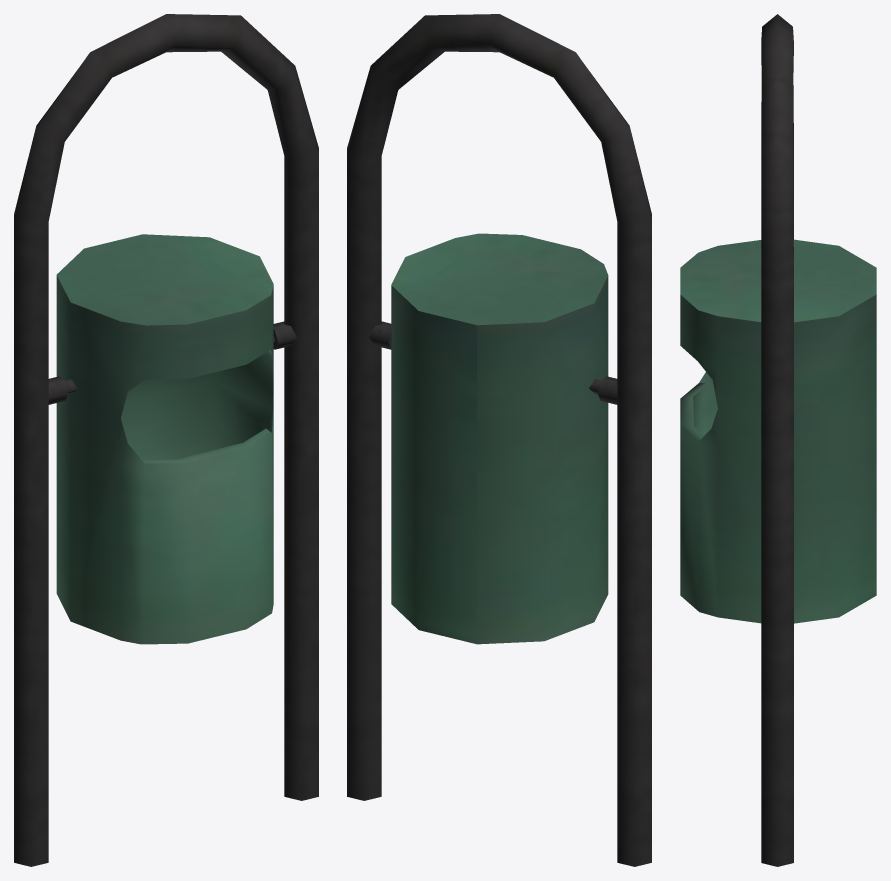
File: trash_can_03.FBX
The picture shows the model from 3 angles, left to right: view 1: azimuth 30°, elevation 25°; view 2: azimuth 150°, elevation 25°; view 3: azimuth 270°, elevation 25°; orthographic projection. The views are drawn at different scales.
Parts seen in each view (by area): view 1: trash_can_03; view 2: trash_can_03; view 3: trash_can_03.
Part boxes in pixels (<box>): trash_can_03: <box>14,14,318,866</box>; trash_can_03: <box>347,14,651,866</box>; trash_can_03: <box>680,14,876,866</box>.
Bounding box in the file's own units: 14.79 × 37.61 × 8.72.
Materials: 1 (1 with a texture image).
